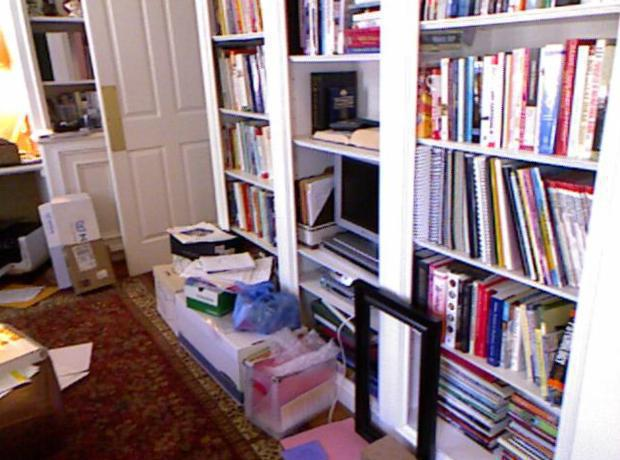Otro Obstaculo: (161, 229, 302, 409), (240, 326, 344, 440)
